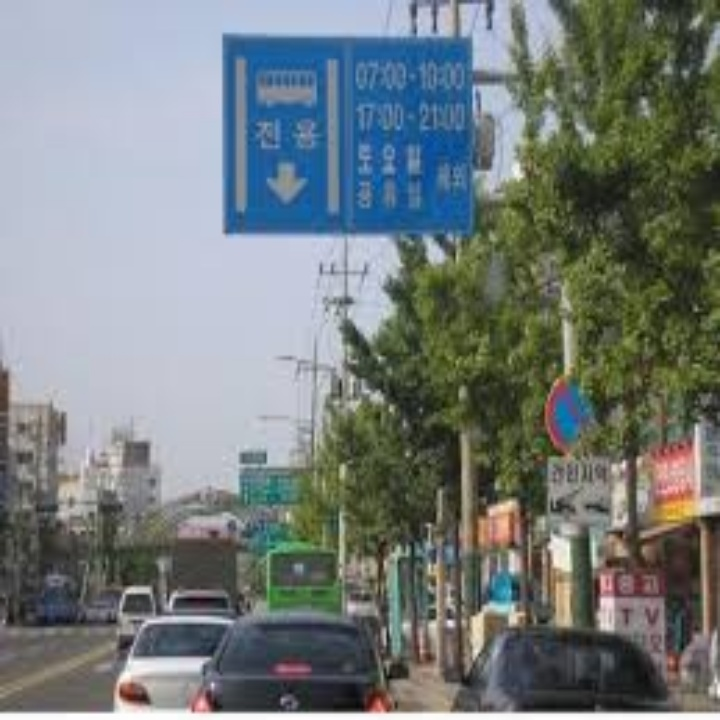bus: (249, 58, 327, 115)
